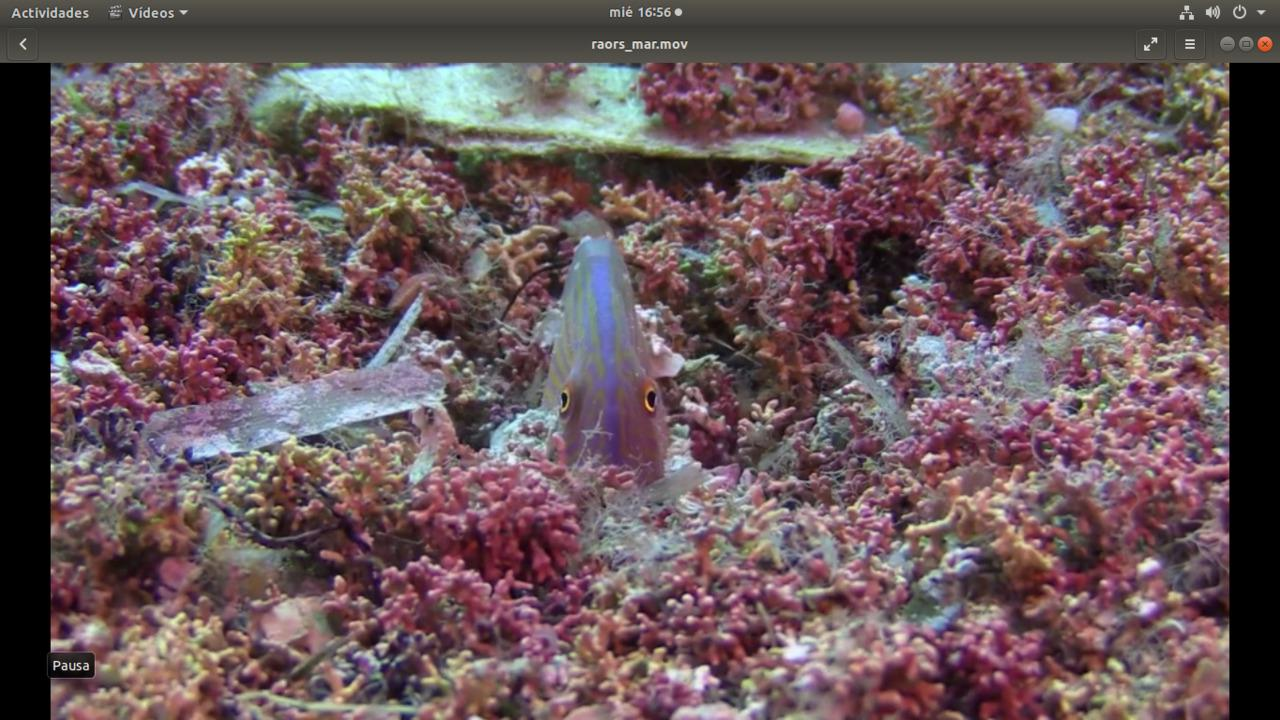raor: (524, 224, 691, 490)
